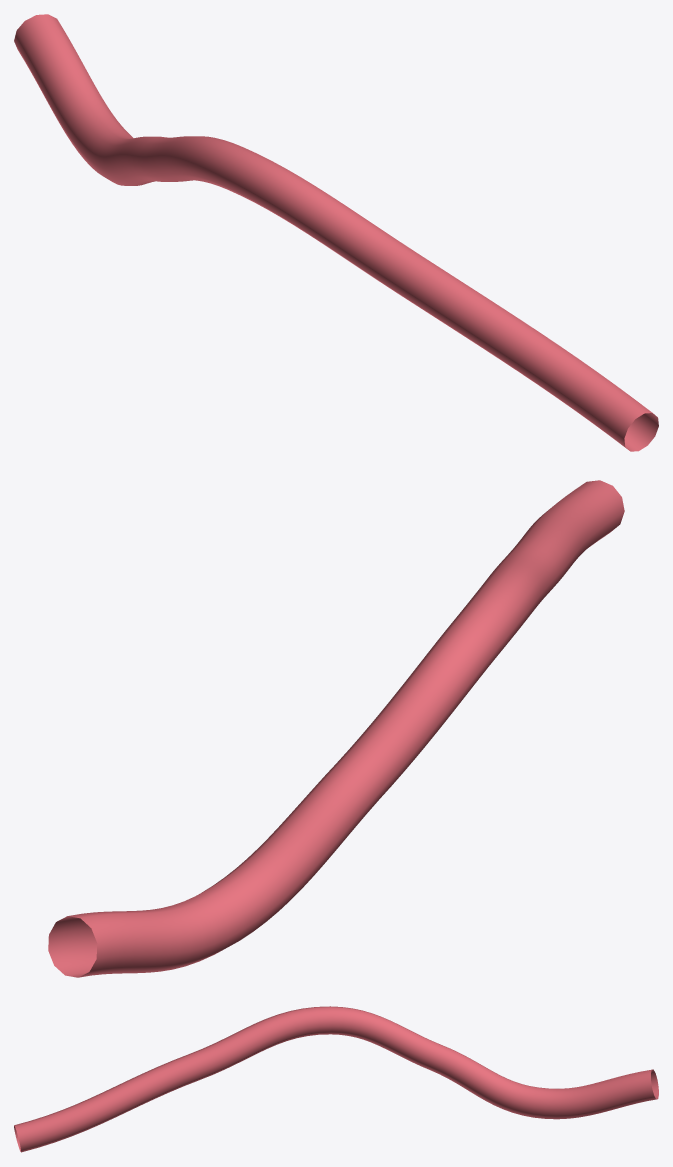
3 views of the same model, one above another, from view 1: azimuth 30°, elevation 25°; view 2: azimuth 150°, elevation 25°; view 3: azimuth 270°, elevation 25° (orthographic). The views are drawn at different scales.
Visible parts, largest first — view 1: ZA_efaf3894a17657e0; view 2: ZA_efaf3894a17657e0; view 3: ZA_efaf3894a17657e0.
Boxes of the visible parts, box(x1,y1,x2,y2) form: ZA_efaf3894a17657e0: box(14, 14, 658, 451); ZA_efaf3894a17657e0: box(48, 480, 624, 977); ZA_efaf3894a17657e0: box(14, 1006, 658, 1152).
Size of the model in its own units: 0.00894 by 0.0069 by 0.0412.
